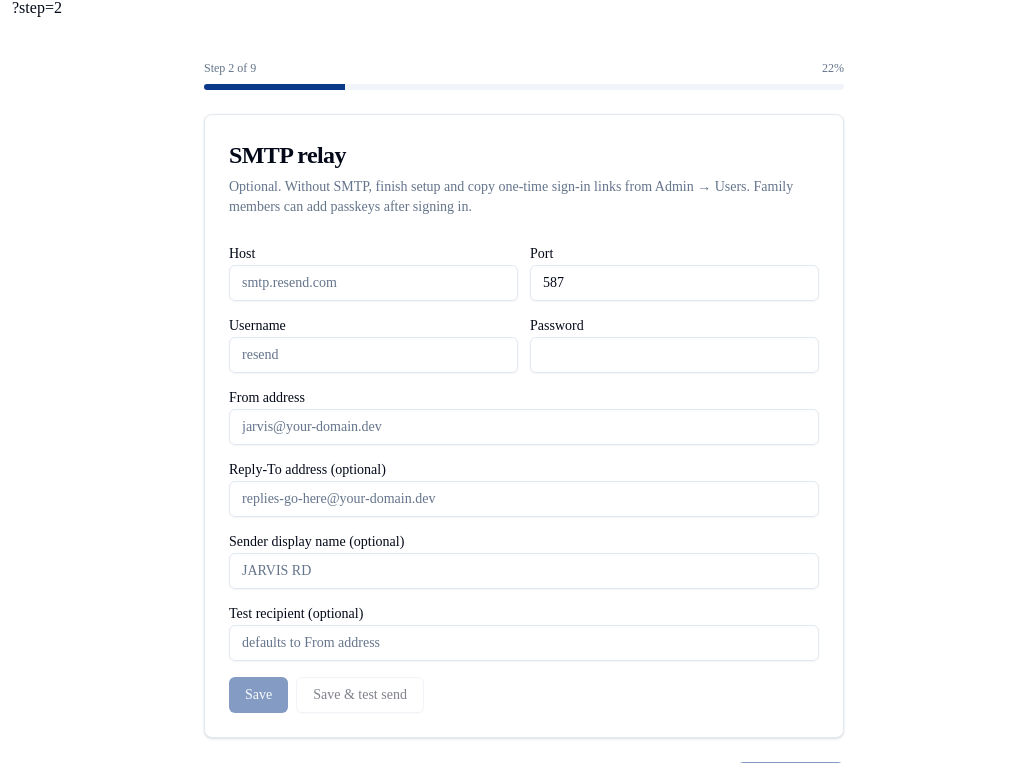
Test: OnboardingWizard › SMTP Continue is disabled until host + a valid from-address are filled
The image size is (1036, 763).
Check: the heading "SMTP relay" is shown, box [229,142,346,168]
// Host only (no from-address) → still disabled.
Type "smtp.example.com" into the field labelled "Host" at coordinates (374, 283), box [229,265,518,301]
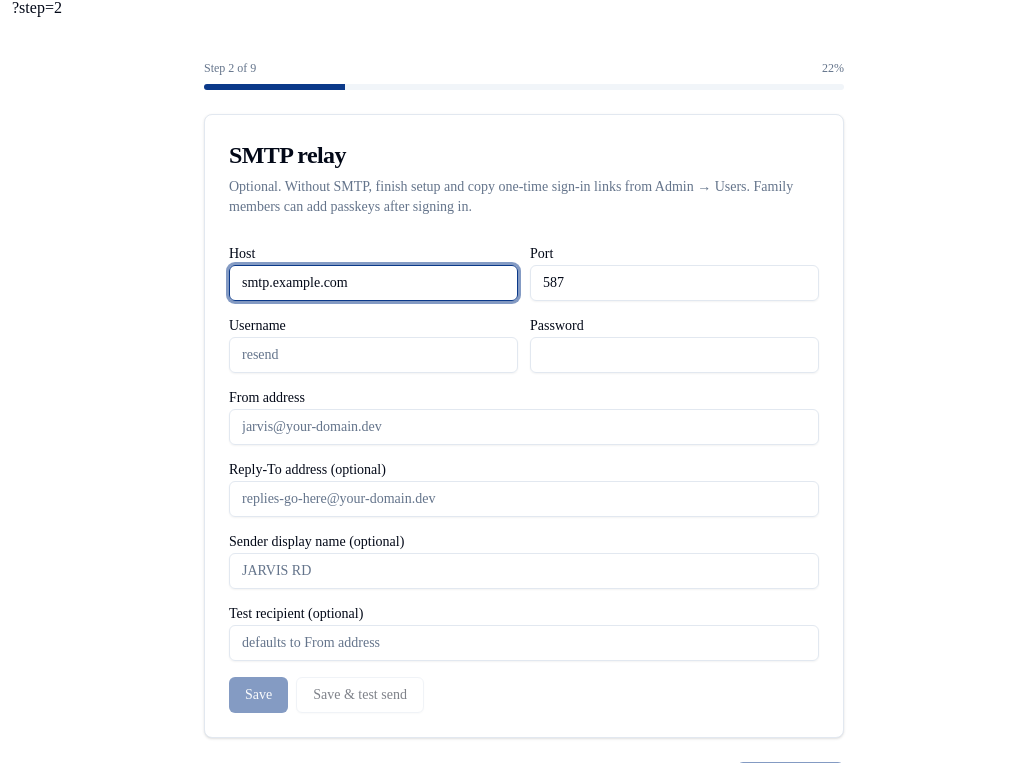
// Host + malformed email → still disabled.
Type "not-an-email" into the field labelled "From address" at coordinates (524, 427), box [229,409,819,445]
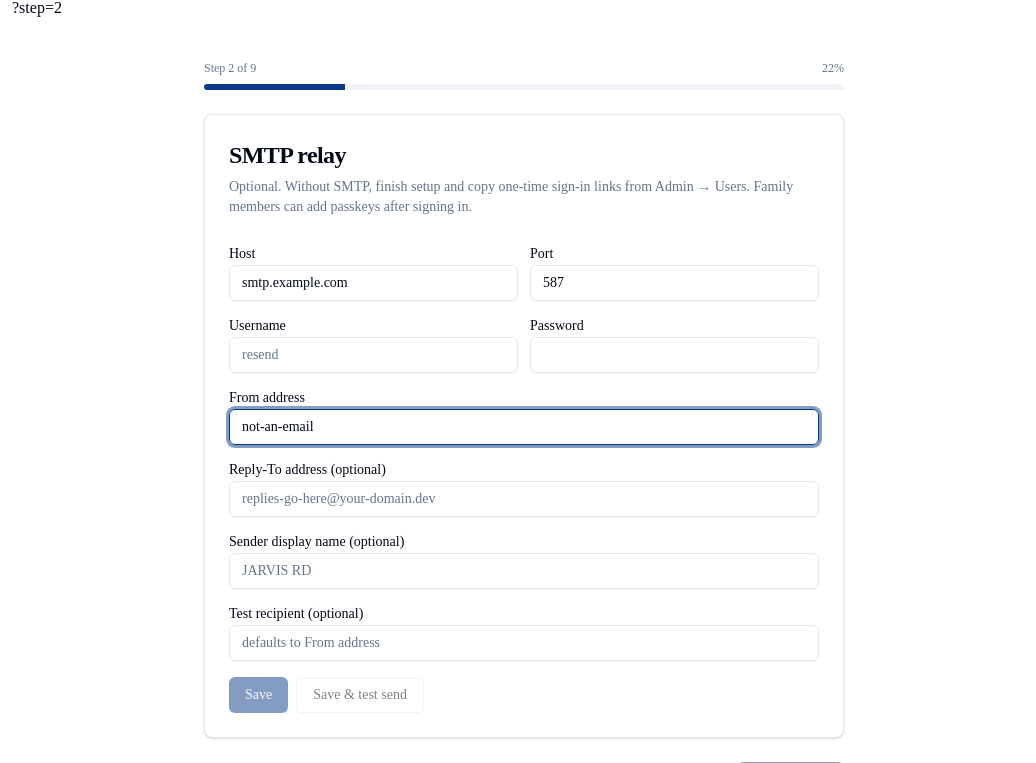
// Host + valid email → enabled.
Replace the text in the field labelled "From address" with "jarvis@example.com" at coordinates (524, 427), box [229,409,819,445]
(page scrolled)
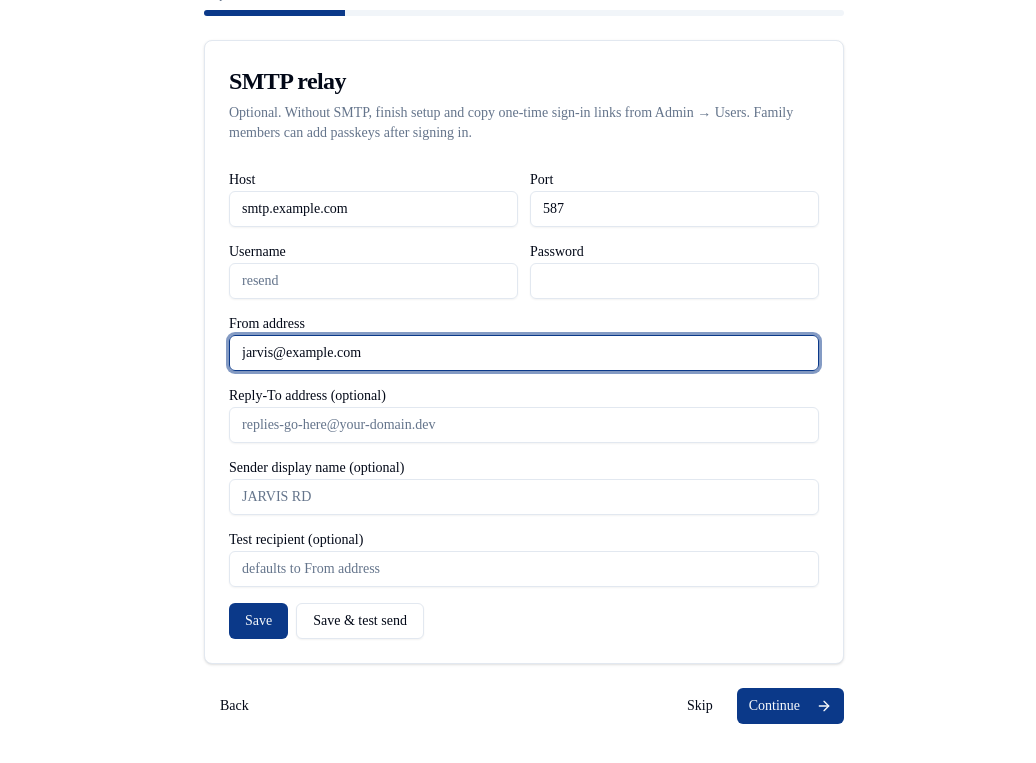
Check: the button "Continue" is enabled, box [737,688,844,724]
